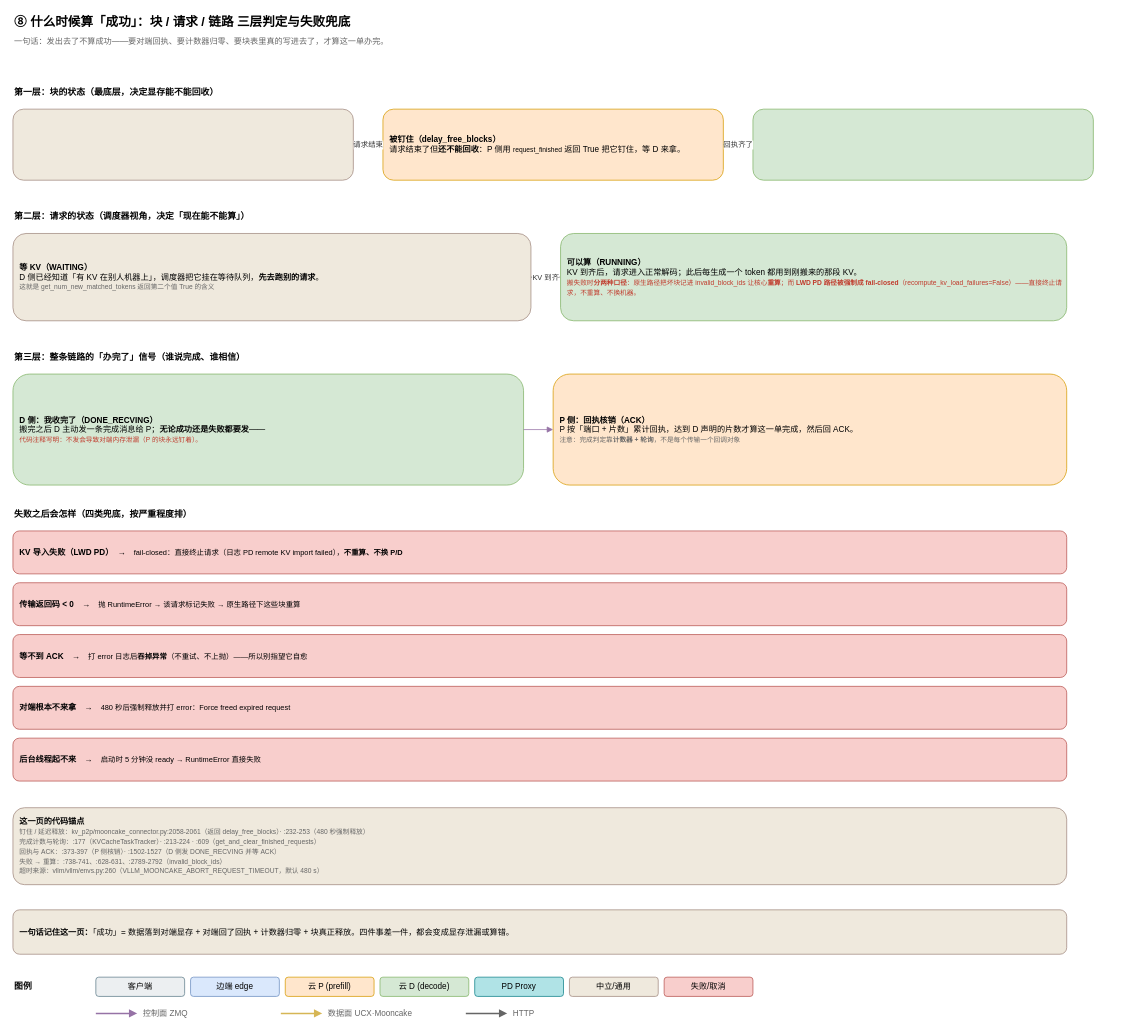
This 1136x1035 diagram has some shape labels left out. The centre of each missing label's shape, as x and y in pixels:
"真正释放 D 回执到达、P 侧计数器归零后， get_finished 报给核芯，块才回到池子。" belongs at pixel 922 144.
"空闲 / 已分配 块在自己的池子里，可用或正在被某个请求用着。" belongs at pixel 182 144.
